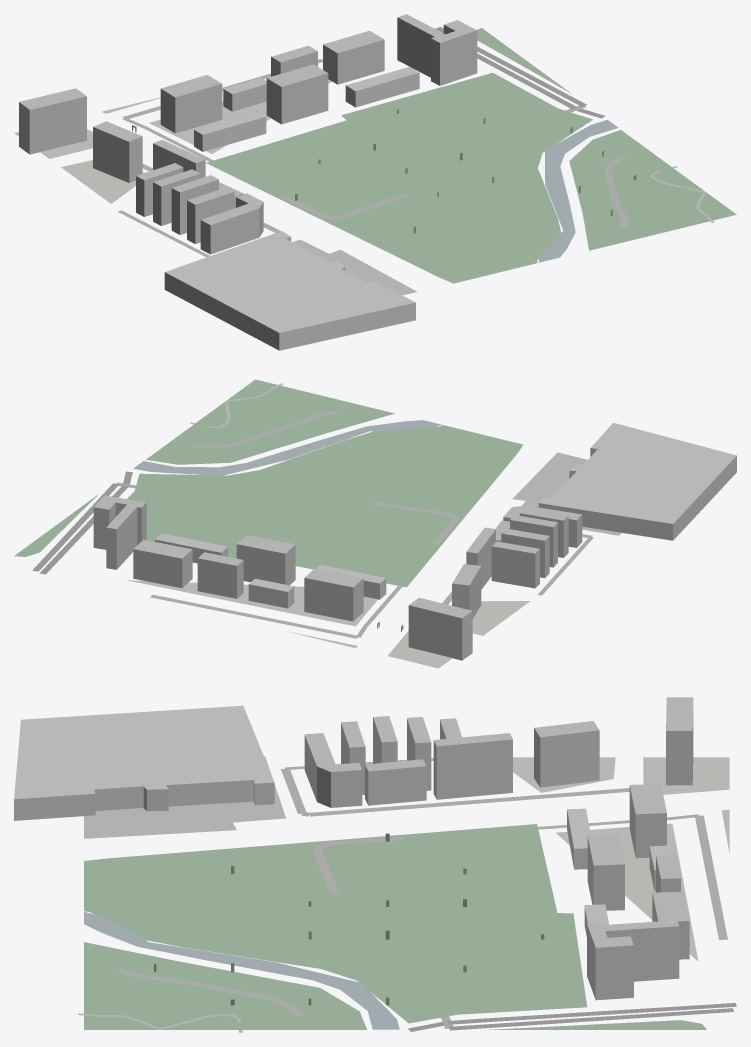
3 renders of one model, top to bottom at view 1: azimuth 30°, elevation 25°; view 2: azimuth 150°, elevation 25°; view 3: azimuth 270°, elevation 25°, orthographic. The views are drawn at different scales.
Bounding box in the file's own units: 558 × 46.6 × 560.
